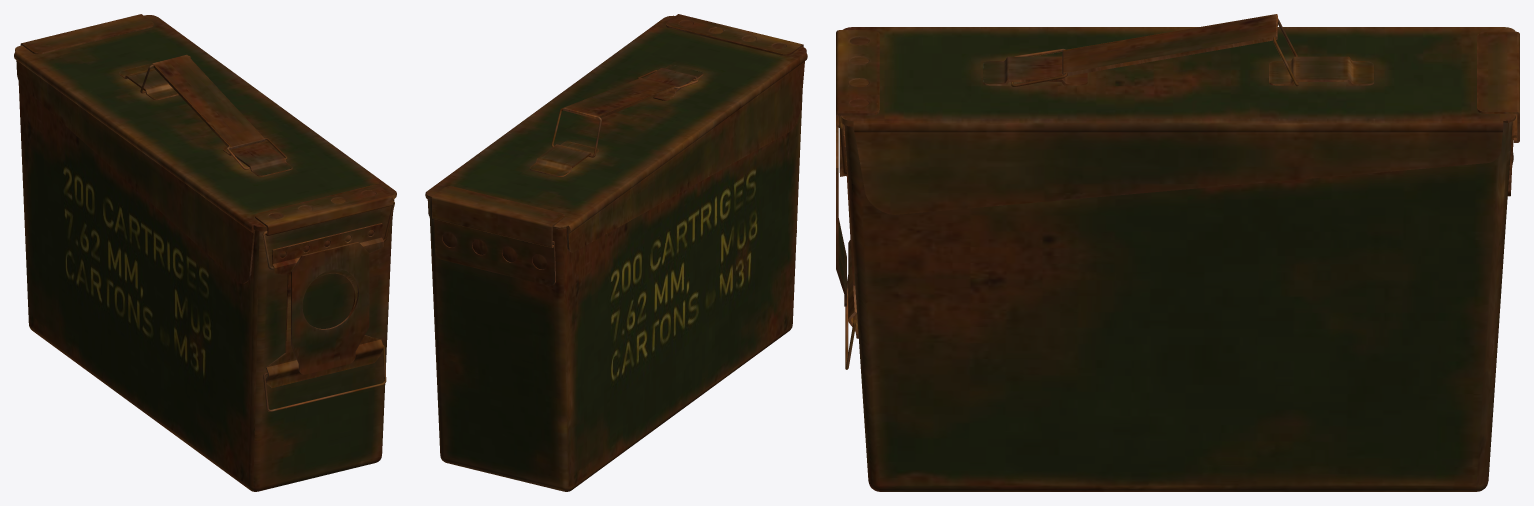
Rendered from ammo_box.gltf.
3 renders of one model, left to right at view 1: azimuth 30°, elevation 25°; view 2: azimuth 150°, elevation 25°; view 3: azimuth 270°, elevation 25°, orthographic. The views are drawn at different scales.
Parts seen in each view (by area): view 1: ammo_box, ammo_box_handle, ammo_box_latch; view 2: ammo_box, ammo_box_handle; view 3: ammo_box, ammo_box_handle.
Boxes of the visible parts, left/top/right/bottom form: ammo_box: left=14, top=14, right=396, bottom=491; ammo_box_handle: left=152, top=54, right=265, bottom=149; ammo_box_latch: left=263, top=345, right=386, bottom=411; ammo_box: left=425, top=14, right=807, bottom=491; ammo_box_handle: left=563, top=78, right=675, bottom=119; ammo_box: left=836, top=27, right=1519, bottom=491; ammo_box_handle: left=1062, top=14, right=1277, bottom=76.
Size of the model in its own units: 0.0866 by 0.1775 by 0.2579.
Materials: 1 (1 with a texture image).
